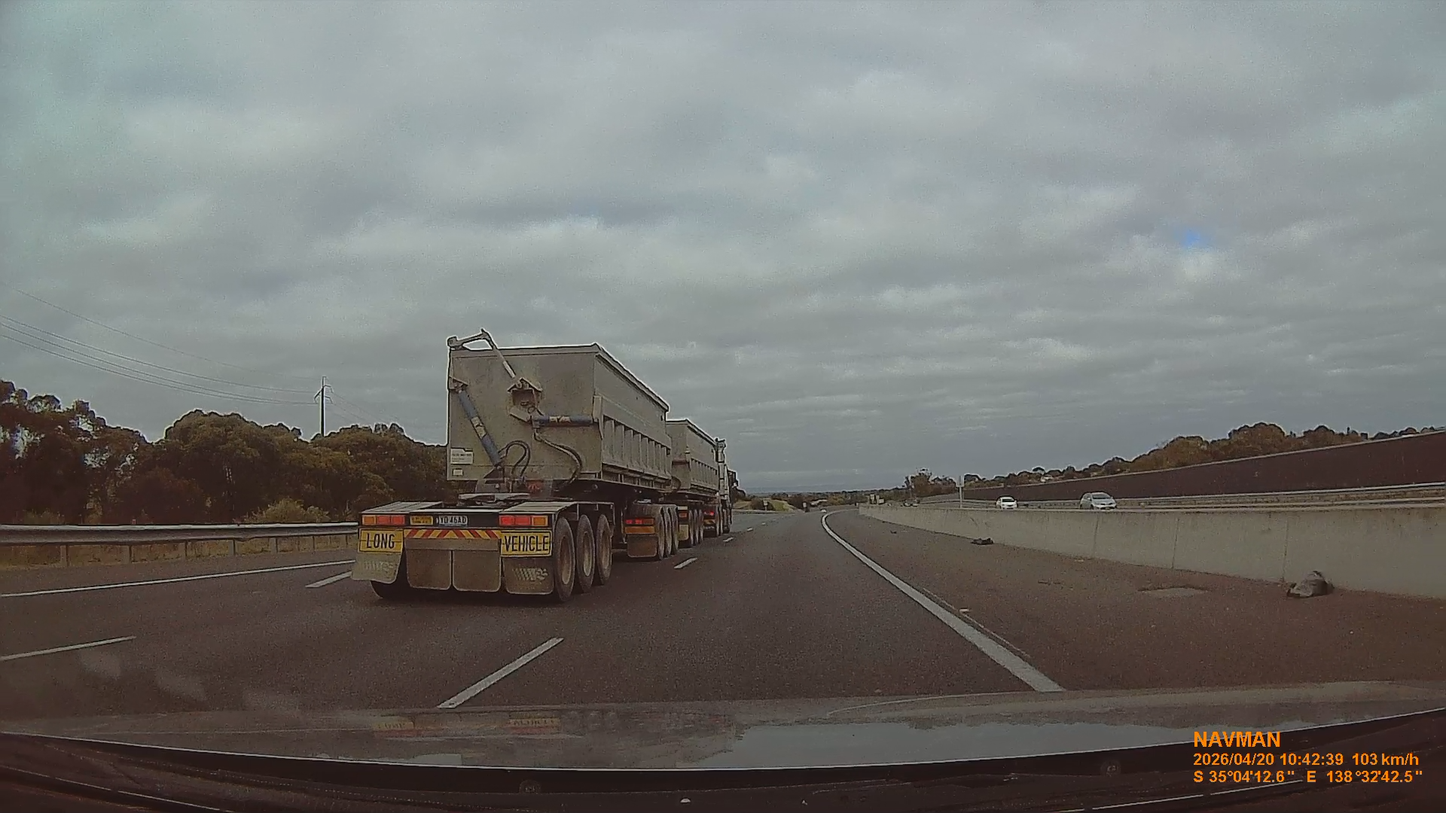road barriers: (828, 491, 1443, 598), (1, 522, 360, 563)
